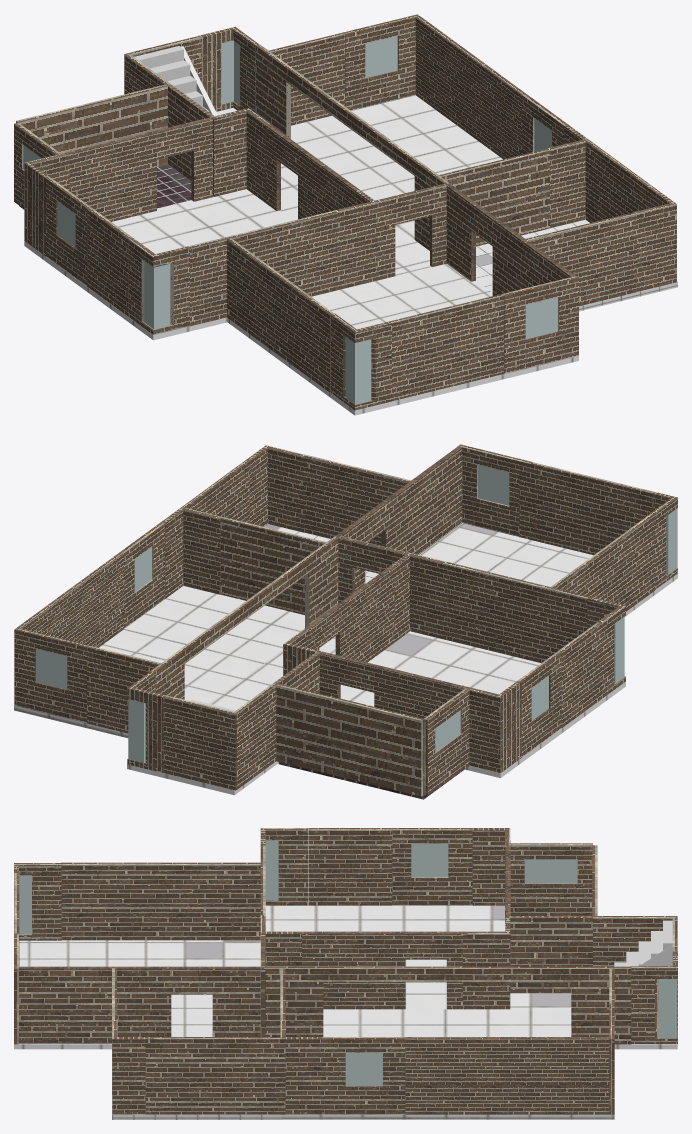
The model's file is house.fbx.
The picture shows the model from 3 angles, top to bottom: view 1: azimuth 30°, elevation 25°; view 2: azimuth 150°, elevation 25°; view 3: azimuth 270°, elevation 25°; orthographic projection. The views are drawn at different scales.
Visible parts, largest first — view 1: helpmefind floor, long plain wall.002, long wall with door.004, small wall with window.007, long plain wall.005, long plain wall.001, Living Room floor, masters floor, long wall with door.003, small wall with window.009, long wall with door.002, long plain wall (+32 smaller); view 2: helpmefind floor, long plain wall, long plain wall.001, long plain wall.002, masters floor, long wall with door.003, small wall with window.004, Living Room floor, long wall with door.002, small wall.002, small wall with window.007, small wall with window.009 (+31 smaller); view 3: small wall with window.007, long wall with door.003, long plain wall.005, long wall with door.002, long plain wall.004, Living Room floor, hallway floor, long wall with door.001, masters floor, small wall with window.001, small wall with window.006, small wall with window.002 (+23 smaller).
Part boxes in pixels (x1,y1,x2,y2): helpmefind floor: [291, 95, 502, 234]; long plain wall.002: [375, 291, 512, 401]; long wall with door.004: [61, 117, 212, 221]; small wall with window.007: [415, 16, 525, 159]; long plain wall.005: [227, 238, 334, 392]; long plain wall.001: [188, 210, 337, 326]; Living Room floor: [227, 264, 578, 415]; masters floor: [24, 189, 293, 340]; long wall with door.003: [446, 184, 575, 295]; small wall with window.009: [525, 212, 636, 306]; long wall with door.002: [256, 44, 449, 250]; long plain wall: [16, 84, 167, 166]; helpmefind floor: [14, 586, 304, 738]; long plain wall: [276, 683, 423, 796]; long plain wall.001: [445, 562, 589, 663]; long plain wall.002: [519, 461, 655, 555]; masters floor: [340, 631, 625, 778]; long wall with door.003: [337, 446, 462, 591]; small wall with window.004: [219, 516, 326, 614]; Living Room floor: [419, 523, 677, 616]; long wall with door.002: [150, 536, 338, 699]; small wall.002: [163, 695, 237, 790]; small wall with window.007: [17, 553, 123, 647]; small wall with window.009: [303, 454, 410, 545]; small wall with window.007: [404, 1037, 609, 1114]; long wall with door.003: [15, 966, 260, 1043]; long plain wall.005: [61, 862, 260, 940]; long wall with door.002: [263, 966, 631, 1044]; long plain wall.004: [145, 1037, 285, 1114]; Living Room floor: [14, 940, 260, 1049]; hallway floor: [323, 993, 677, 1049]; long wall with door.001: [297, 931, 468, 1009]; masters floor: [265, 904, 505, 1009]; small wall with window.001: [308, 828, 392, 905]; small wall with window.006: [321, 1037, 405, 1114]; small wall with window.002: [389, 828, 472, 905].
Size of the model in its own units: 1753 by 1321 by 234.
